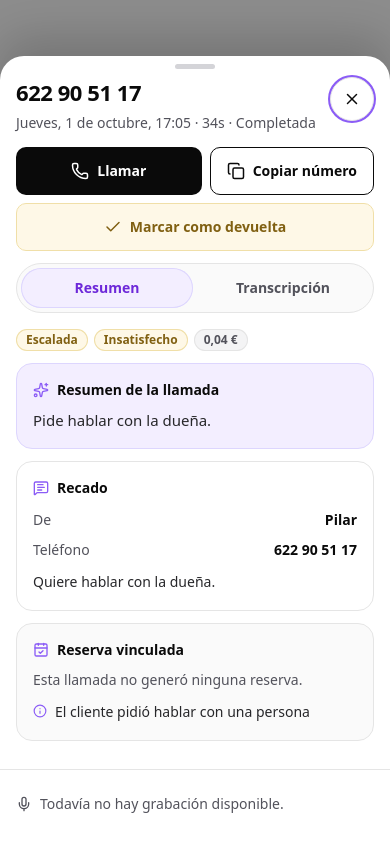
Test: HojaLlamada › marca el recado como devuelto y deja deshacerlo
expect the heading "622 90 51 17" is shown: met, box top-left (16, 77), bottom-right (141, 107)
Click the button "Marcar como devuelta" at (195, 226), box top-left (16, 202), bottom-right (374, 250)
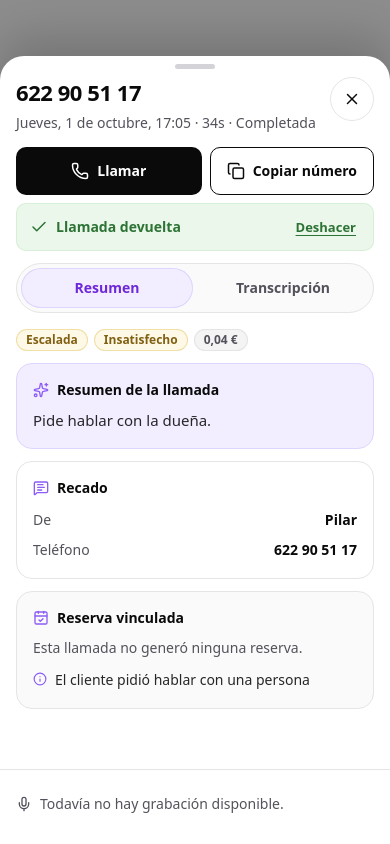
expect the text "Llamada devuelta" is shown: met, box top-left (30, 216), bottom-right (181, 236)
Click the button "Deshacer" at (326, 226), box top-left (292, 204), bottom-right (360, 248)
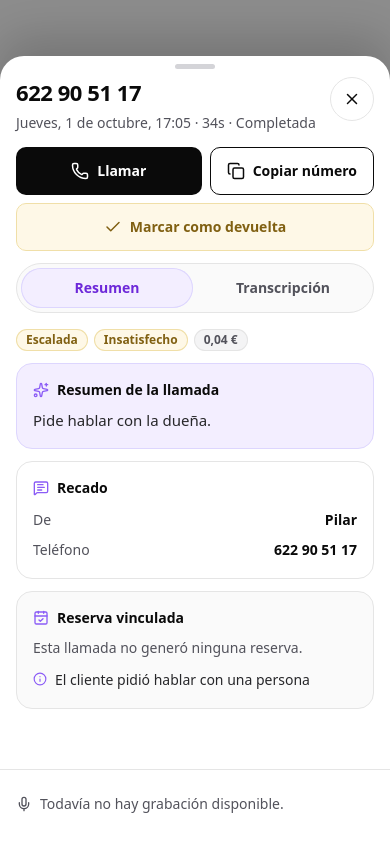
expect the button "Marcar como devuelta" is shown: met, box top-left (16, 202), bottom-right (374, 250)
